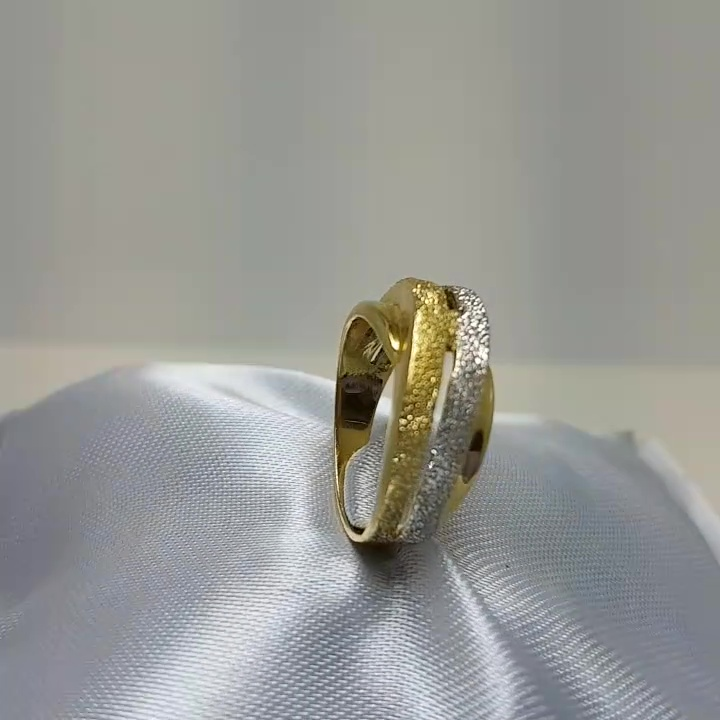Ring 5: (280, 262, 549, 560)
